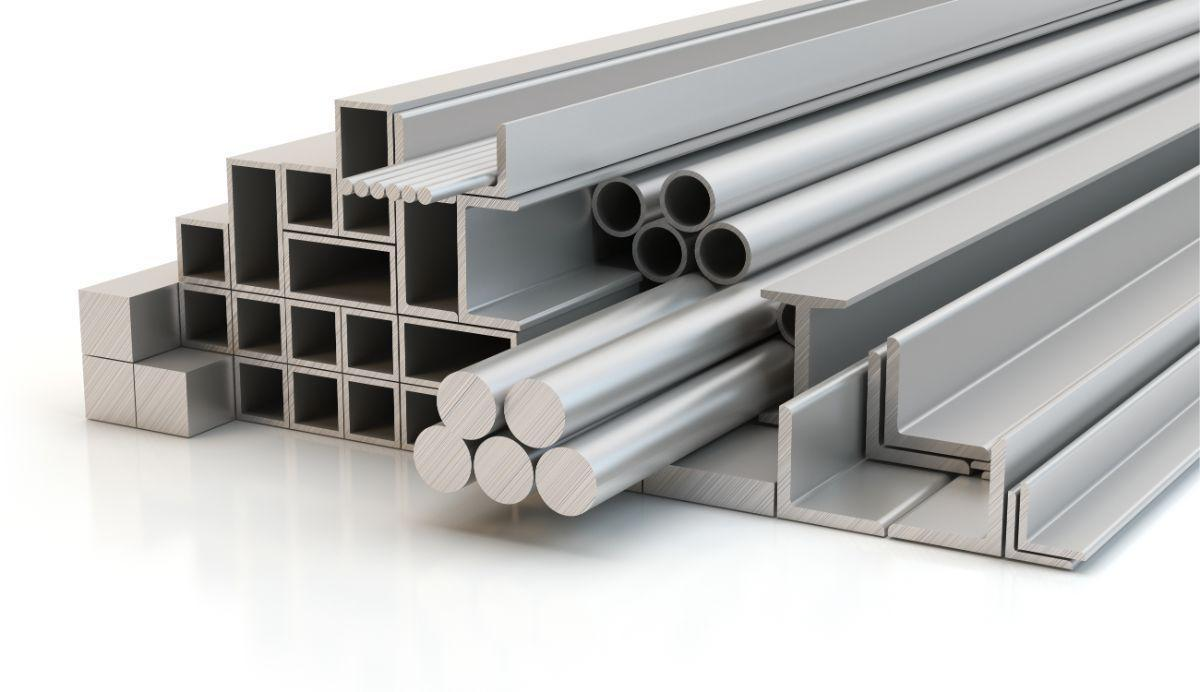pipe: (278, 226, 400, 312), (222, 154, 290, 298), (334, 99, 394, 240), (404, 196, 464, 319), (340, 370, 407, 454), (230, 284, 292, 370), (286, 360, 349, 444), (337, 306, 403, 386), (283, 298, 349, 376), (232, 352, 294, 432), (176, 282, 237, 360), (169, 211, 230, 288), (282, 159, 340, 239), (628, 220, 691, 290), (588, 171, 649, 241), (658, 166, 720, 234), (694, 222, 756, 289)
